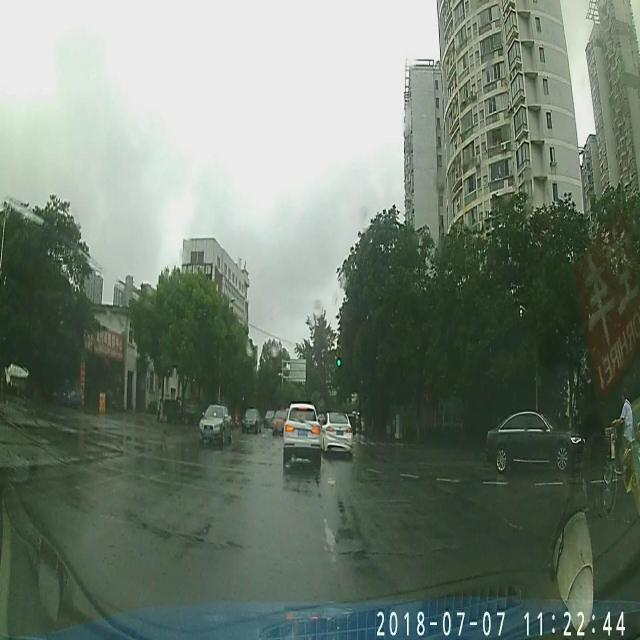car: (483, 408, 588, 473), (284, 399, 322, 469), (198, 402, 234, 448), (241, 404, 262, 436), (272, 407, 286, 436), (264, 408, 274, 430)
